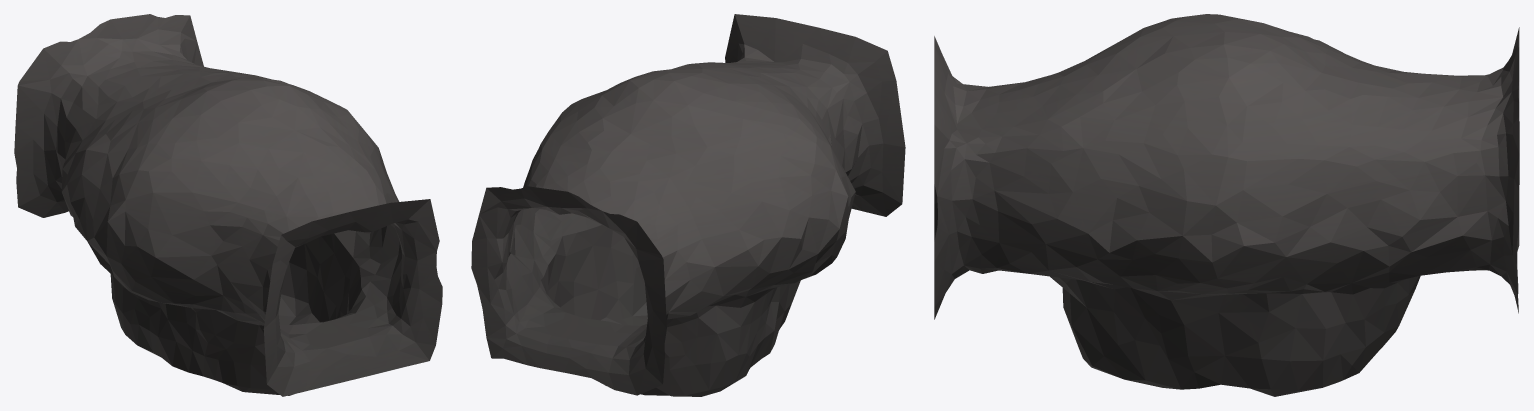
The model's file is ZLP_Cave_A_12.FBX.
3 views of the same model, side by side, from view 1: azimuth 30°, elevation 25°; view 2: azimuth 150°, elevation 25°; view 3: azimuth 270°, elevation 25° (orthographic). The views are drawn at different scales.
Parts seen in each view (by area): view 1: ZLP_Cave_A_12; view 2: ZLP_Cave_A_12; view 3: ZLP_Cave_A_12.
Part boxes in pixels (left/top/right/bottom): ZLP_Cave_A_12: left=14, top=14, right=442, bottom=396; ZLP_Cave_A_12: left=471, top=14, right=905, bottom=396; ZLP_Cave_A_12: left=934, top=14, right=1519, bottom=396.
Size of the model in its own units: 2472 by 2145 by 3610.
